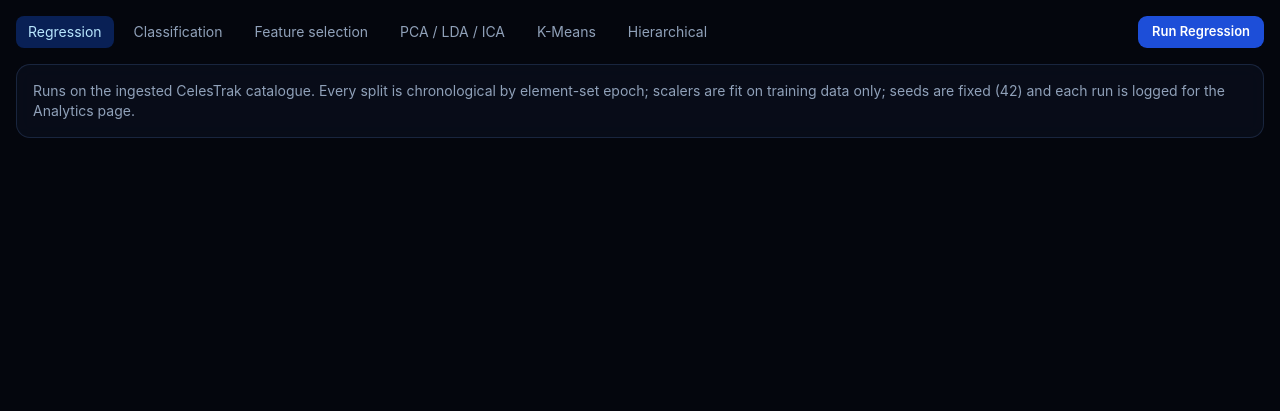
every page renders against real API payloads › ML Lab tab K-Means
What coordinates should you click on to do the following:
click the button "K-Means"
I would click on:
 (566, 32)
Its box is [525,16,608,48].
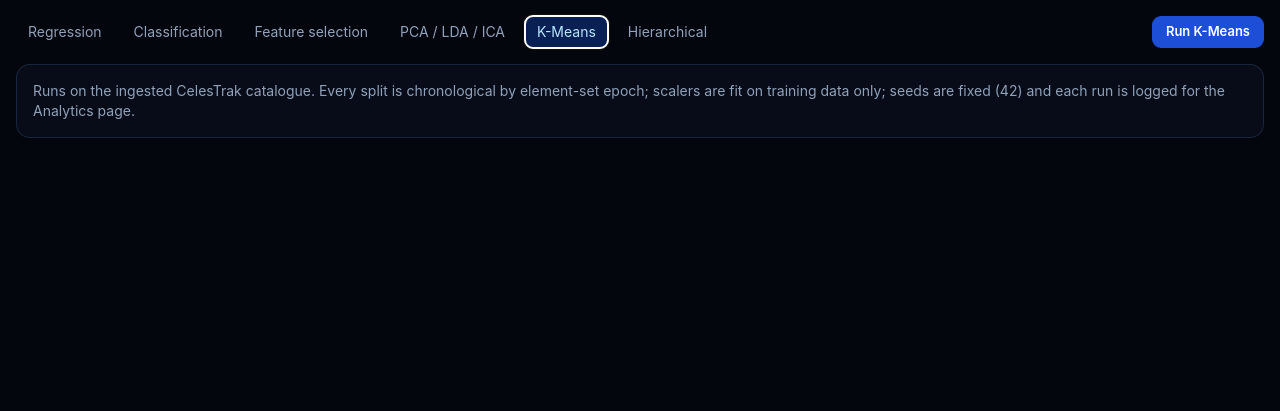
What coordinates should you click on to do the following:
click the button "Run K-Means"
I would click on:
 (1208, 32)
Its box is [1152,16,1264,48].
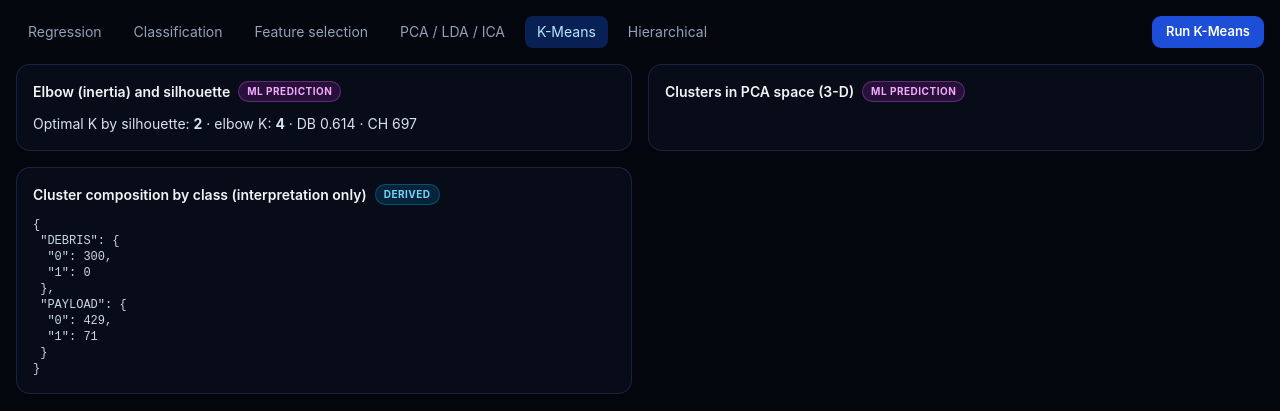
Now the heading "Elbow (inertia) and silhouette" is shown, box [33,82,230,102]
